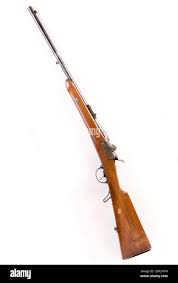gun: (24, 3, 152, 261)
